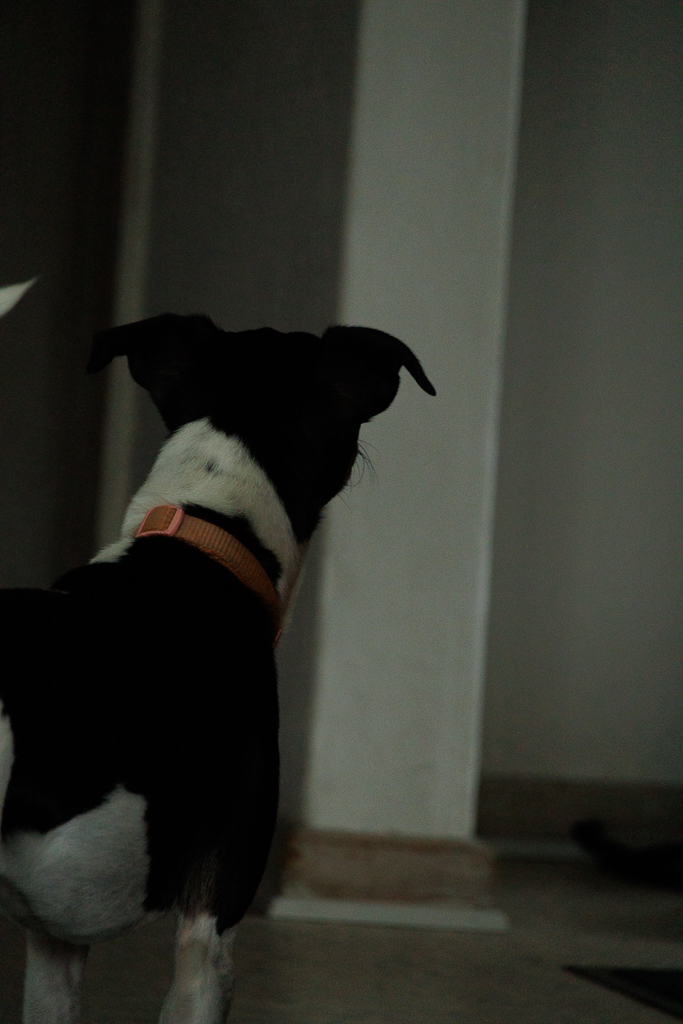Dog: (0, 263, 450, 1024)
